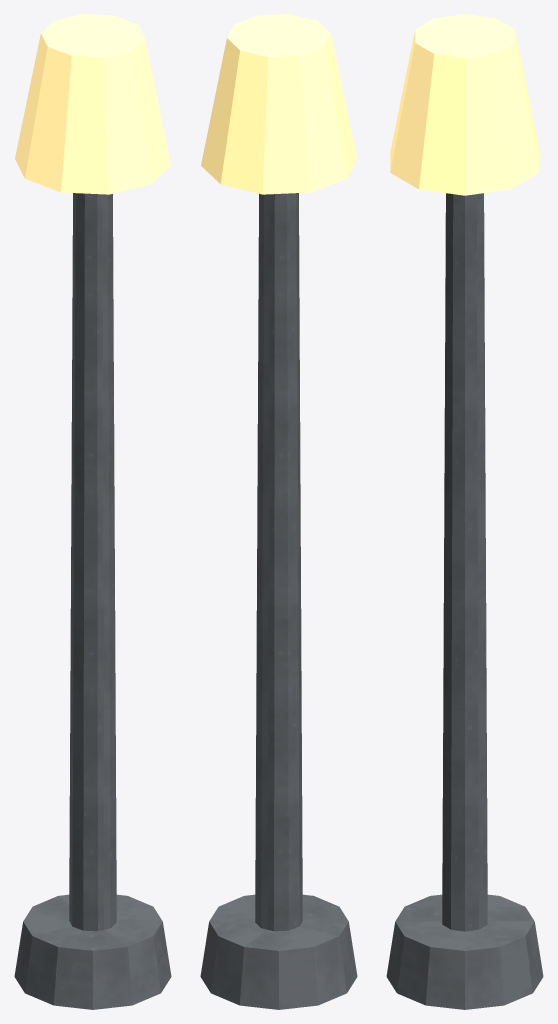
Rendered from lampPost.glb.
The picture shows the model from 3 angles, left to right: view 1: azimuth 30°, elevation 25°; view 2: azimuth 150°, elevation 25°; view 3: azimuth 270°, elevation 25°; orthographic projection.
Parts seen in each view (by area): view 1: lampPost; view 2: lampPost; view 3: lampPost.
Part boxes in pixels (left/top/right/bottom): lampPost: left=14, top=14, right=171, bottom=1009; lampPost: left=200, top=14, right=357, bottom=1009; lampPost: left=386, top=14, right=543, bottom=1009.
Size of the model in its own units: 0.36 by 2.38 by 0.36.
Materials: 2 (1 with a texture image).
